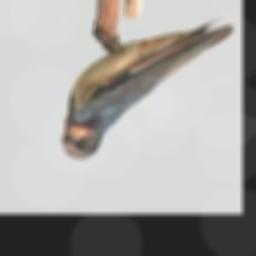Swallow: (62, 21, 234, 158)
